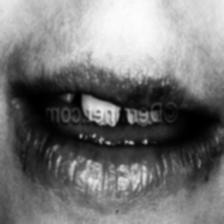Non-Cancerous Skin Condition: (0, 157, 74, 208), (173, 146, 224, 212)
